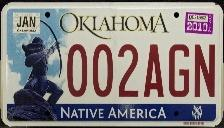0: (66, 41, 88, 98), (92, 42, 114, 98)
2: (116, 42, 141, 99)
A: (142, 43, 165, 99)
G: (168, 42, 193, 99)
N: (193, 42, 217, 99)
